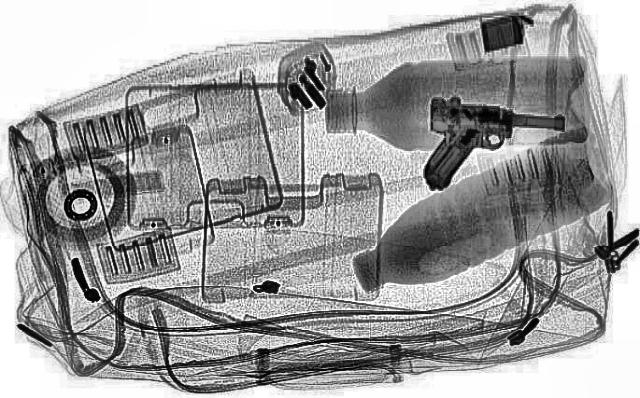Gun: (404, 92, 568, 200)
